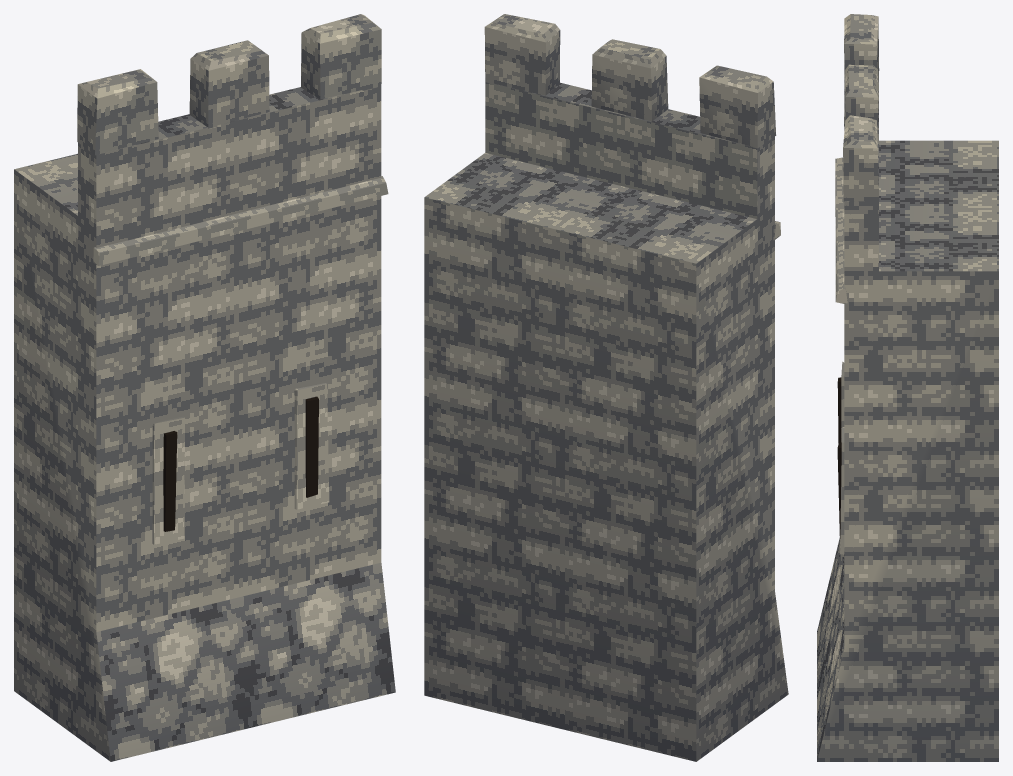
File: cst.curtain__slits.glb
3 views of the same model, side by side, from view 1: azimuth 30°, elevation 25°; view 2: azimuth 150°, elevation 25°; view 3: azimuth 270°, elevation 25° (orthographic). The views are drawn at different scales.
Visible parts, largest first — view 1: kit_wall, kit_top, kit_detail; view 2: kit_wall, kit_top; view 3: kit_wall, kit_top, kit_detail.
Part boxes in pixels (x1,y1,x2,y2): kit_wall: (14, 86, 395, 761); kit_top: (77, 14, 381, 155); kit_detail: (93, 176, 388, 544); kit_wall: (424, 82, 788, 761); kit_top: (484, 14, 776, 148); kit_wall: (817, 75, 998, 761); kit_top: (843, 14, 879, 201); kit_detail: (835, 157, 847, 554).
Size of the model in its own units: 4.07 by 8.85 by 2.35.
5 materials, 5 textured.
